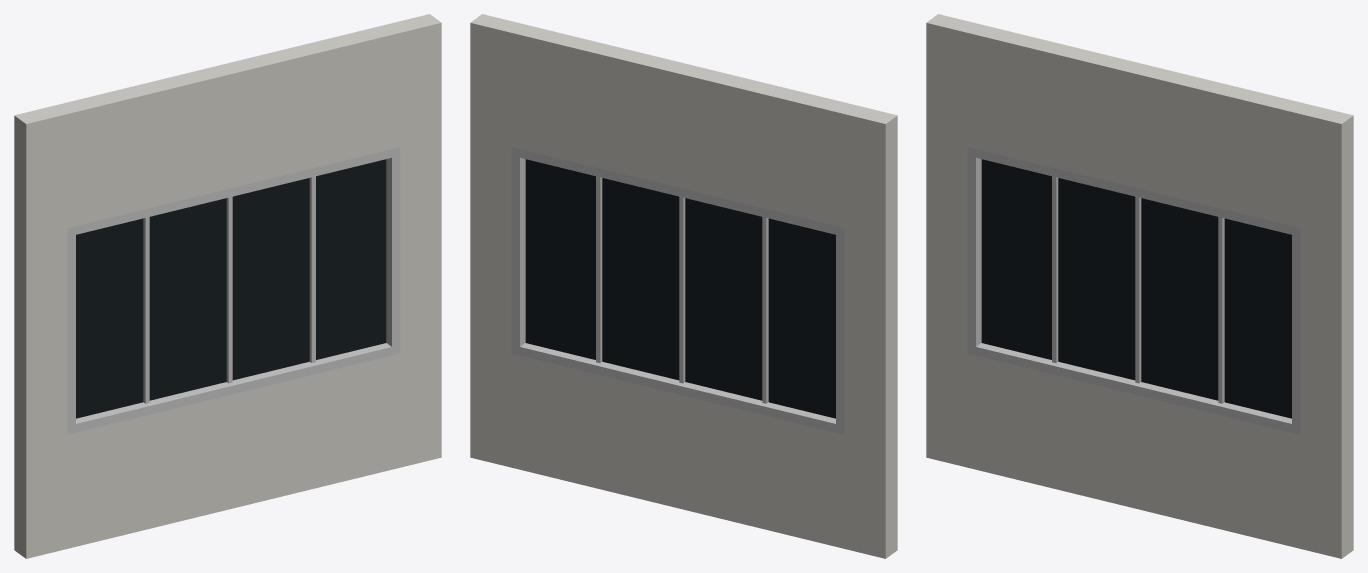
File: OA_Facade_GroundWindowBay_4m.fbx
3 views of the same model, side by side, from view 1: azimuth 30°, elevation 25°; view 2: azimuth 150°, elevation 25°; view 3: azimuth 330°, elevation 25° (orthographic).
Parts seen in each view (by area): view 1: OA_Facade_GroundWindowBay_4m; view 2: OA_Facade_GroundWindowBay_4m; view 3: OA_Facade_GroundWindowBay_4m.
Part boxes in pixels (x1,y1,x2,y2): OA_Facade_GroundWindowBay_4m: (14,14,441,558); OA_Facade_GroundWindowBay_4m: (470,14,897,558); OA_Facade_GroundWindowBay_4m: (926,14,1353,558).
Bounding box in the file's own units: 4 × 4 × 0.2.
